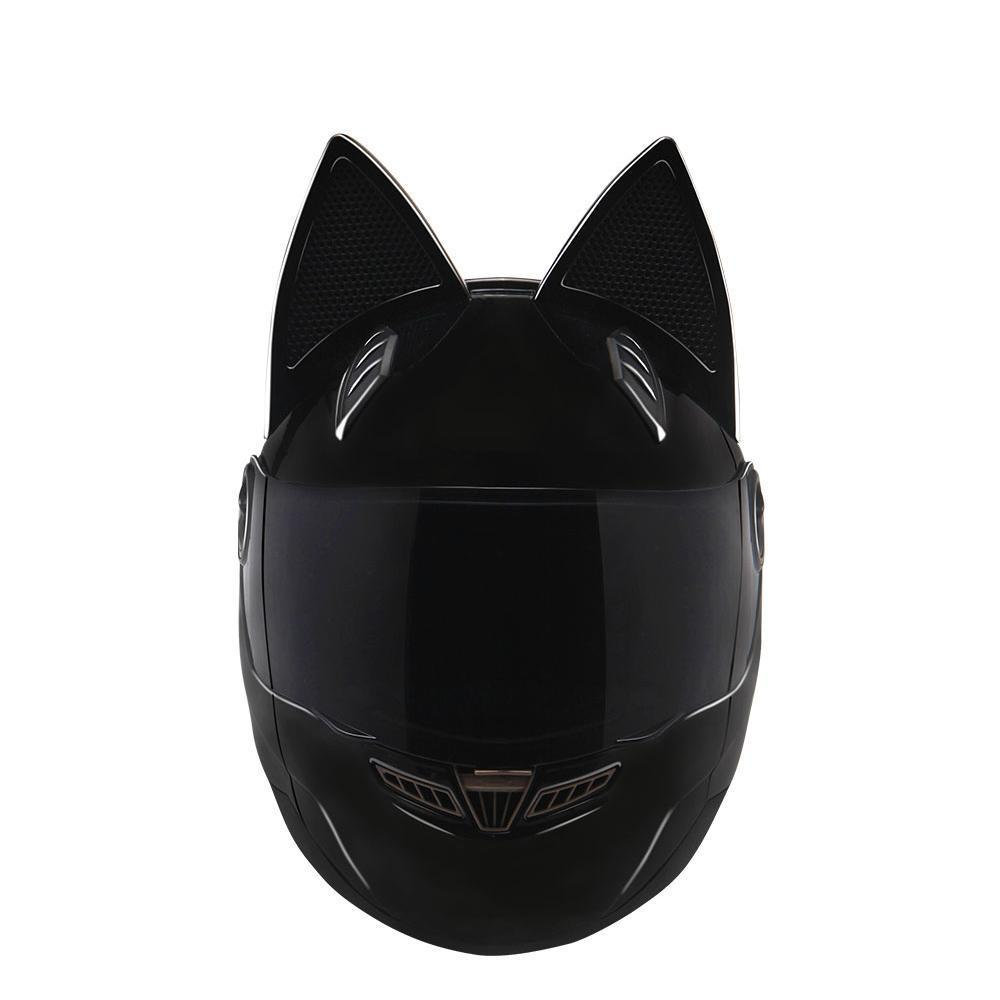with_helmet: (230, 118, 780, 972)
